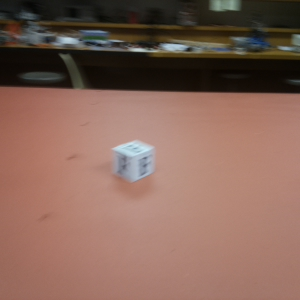blockF: (111, 139, 156, 181)
